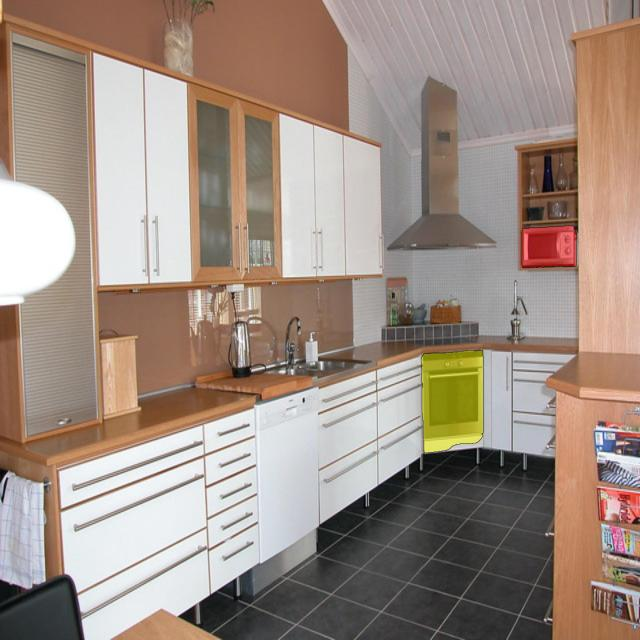dishwasher: (256, 388, 319, 570)
